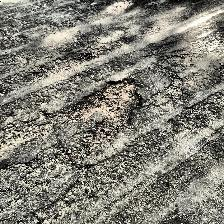pothole: (70, 76, 144, 152)
